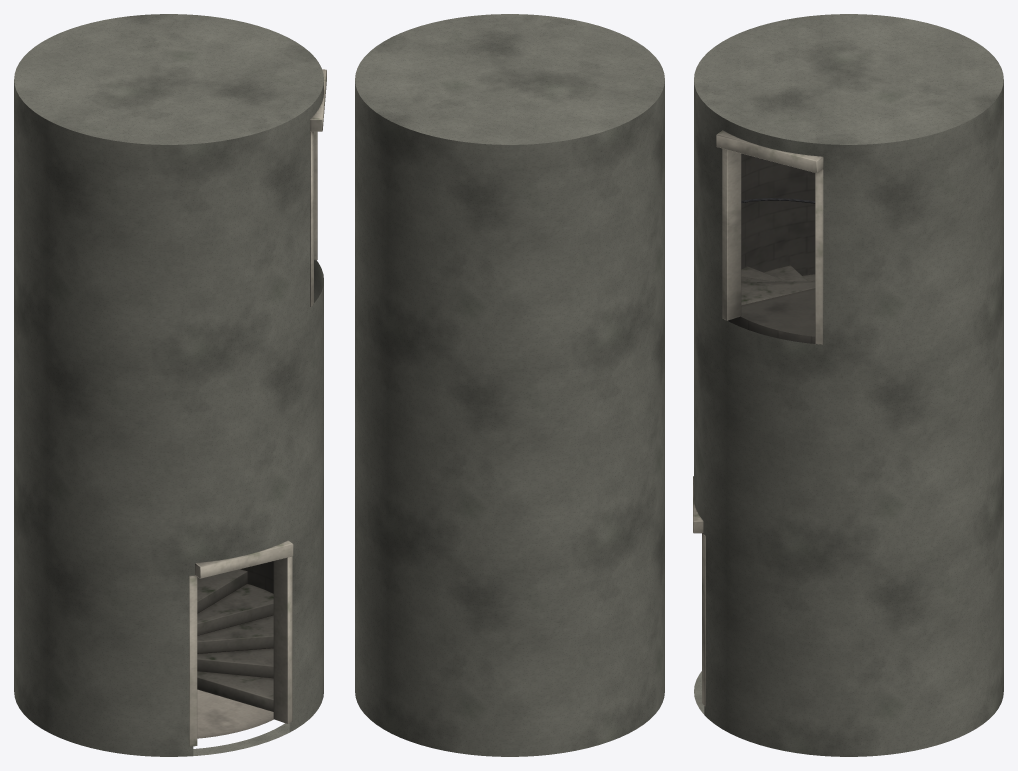
File: SecretSpiralStair.fbx
The picture shows the model from 3 angles, left to right: view 1: azimuth 30°, elevation 25°; view 2: azimuth 150°, elevation 25°; view 3: azimuth 270°, elevation 25°; orthographic projection.
Visible parts, largest first — view 1: SecretSpiralStair_HeadWall, SecretSpiralStair_UpperWall, SecretSpiralStair_Wall, SecretSpiralStair_Main, SecretSpiralStair_Head; view 2: SecretSpiralStair_HeadWall, SecretSpiralStair_Wall, SecretSpiralStair_UpperWall; view 3: SecretSpiralStair_HeadWall, SecretSpiralStair_Wall, SecretSpiralStair_UpperWall, SecretSpiralStair_Head, SecretSpiralStair_Upper, SecretSpiralStair_Main.
Boxes of the visible parts, x1=… form: SecretSpiralStair_HeadWall: x1=14, y1=14, x2=323, y2=345; SecretSpiralStair_UpperWall: x1=14, y1=260, x2=323, y2=546; SecretSpiralStair_Wall: x1=14, y1=481, x2=323, y2=756; SecretSpiralStair_Main: x1=189, y1=540, x2=293, y2=746; SecretSpiralStair_Head: x1=310, y1=69, x2=326, y2=306; SecretSpiralStair_HeadWall: x1=355, y1=14, x2=664, y2=345; SecretSpiralStair_Wall: x1=355, y1=482, x2=664, y2=756; SecretSpiralStair_UpperWall: x1=355, y1=282, x2=664, y2=546; SecretSpiralStair_HeadWall: x1=694, y1=14, x2=1003, y2=345; SecretSpiralStair_Wall: x1=694, y1=481, x2=1003, y2=756; SecretSpiralStair_UpperWall: x1=694, y1=281, x2=1003, y2=546; SecretSpiralStair_Head: x1=716, y1=130, x2=823, y2=344; SecretSpiralStair_Upper: x1=728, y1=198, x2=815, y2=343; SecretSpiralStair_Main: x1=693, y1=476, x2=706, y2=706.
Size of the model in its own units: 1150 by 2440 by 1123.
